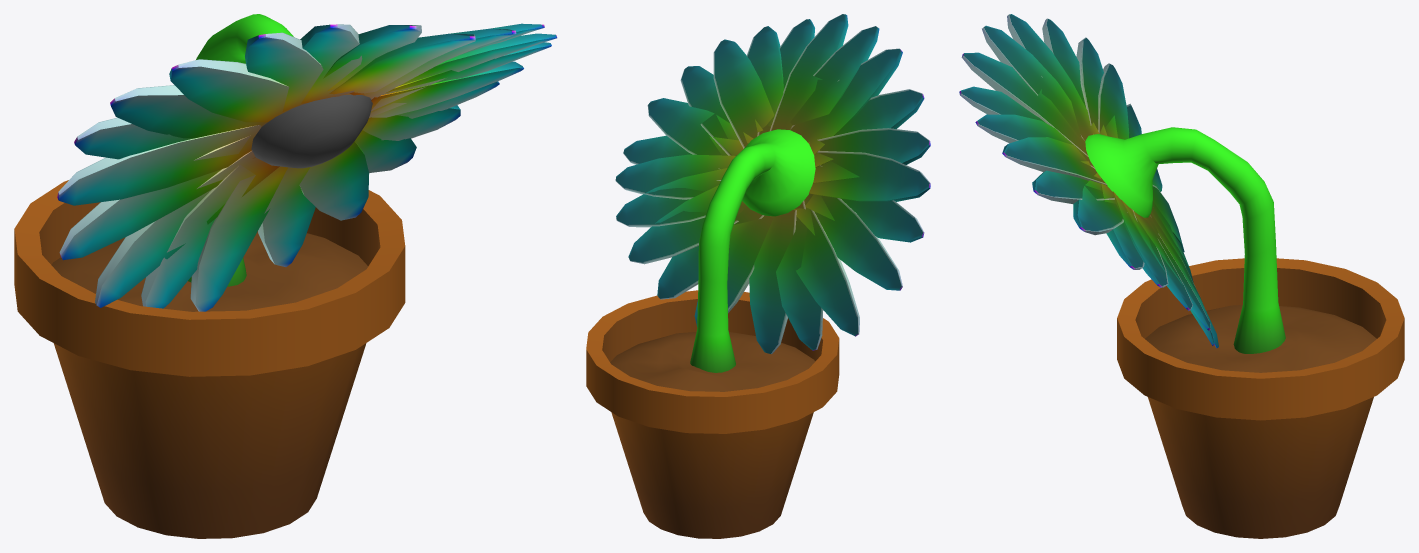
File: plant_pot.fbx
3 views of the same model, side by side, from view 1: azimuth 30°, elevation 25°; view 2: azimuth 150°, elevation 25°; view 3: azimuth 270°, elevation 25° (orthographic). The views are drawn at different scales.
Parts seen in each view (by area): view 1: plantpot; view 2: plantpot; view 3: plantpot.
Part boxes in pixels (<box>): plantpot: <box>14,14,557,538</box>; plantpot: <box>586,14,930,538</box>; plantpot: <box>959,14,1404,538</box>.
Bounding box in the file's own units: 88.48 × 114 × 101.
1 material, 1 textured.
